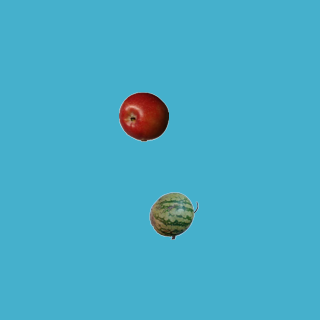Apple Braeburn: (118, 91, 168, 141)
Watermelon: (148, 190, 198, 240)
